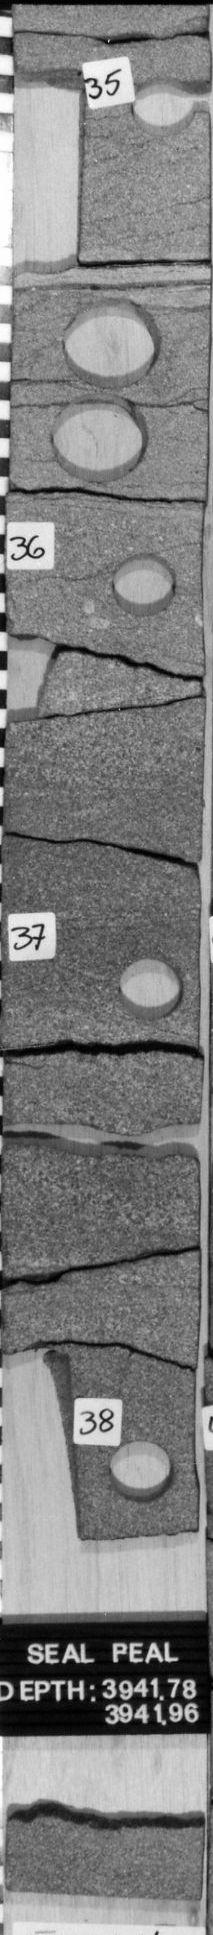hplug: (103, 1434, 183, 1512), (111, 950, 191, 1024), (121, 70, 205, 136), (107, 546, 179, 622)
scal: (49, 294, 167, 390), (49, 392, 163, 490)
vplug: (1, 1338, 93, 1546), (9, 60, 91, 288)
